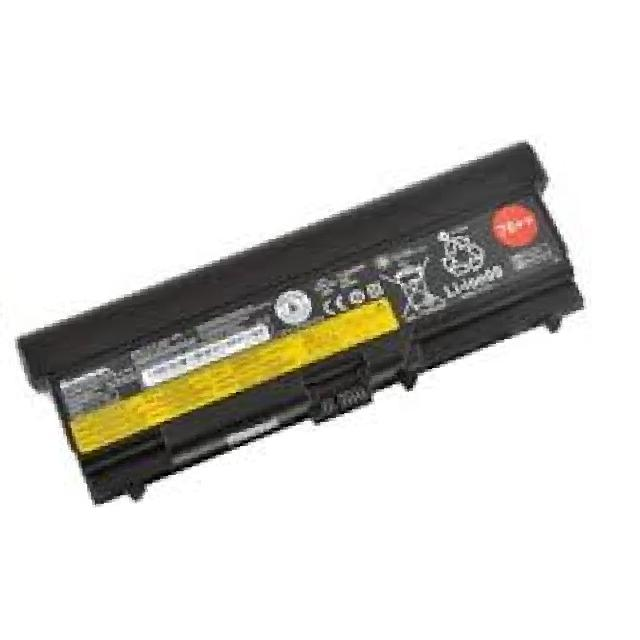Battery: (16, 138, 602, 522)
